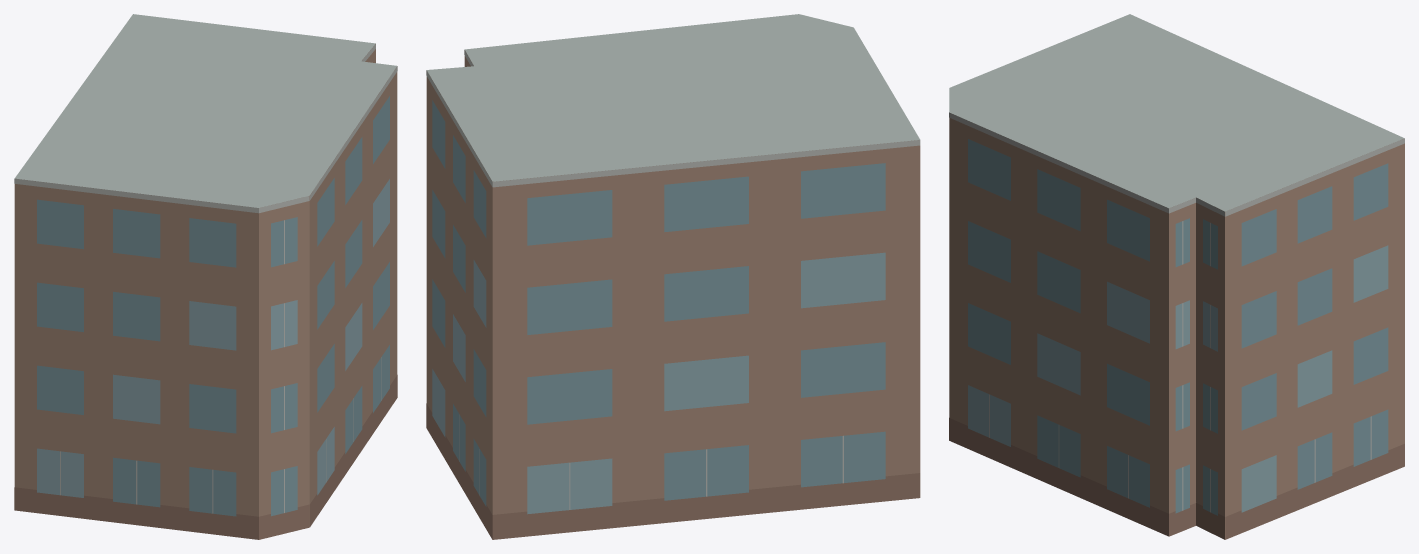
File: survey-upis-32836613.glb
3 renders of one model, left to right at view 1: azimuth 30°, elevation 25°; view 2: azimuth 150°, elevation 25°; view 3: azimuth 270°, elevation 25°, orthographic. The views are drawn at different scales.
Visible parts, largest first — view 1: survey-upis-32836613.tmp; view 2: survey-upis-32836613.tmp; view 3: survey-upis-32836613.tmp.
Boxes of the visible parts, x1=… form: survey-upis-32836613.tmp: x1=14, y1=14, x2=397, y2=539; survey-upis-32836613.tmp: x1=426, y1=14, x2=920, y2=539; survey-upis-32836613.tmp: x1=949, y1=14, x2=1404, y2=539.
Bounding box in the file's own units: 20.03 × 15.5 × 19.51.
